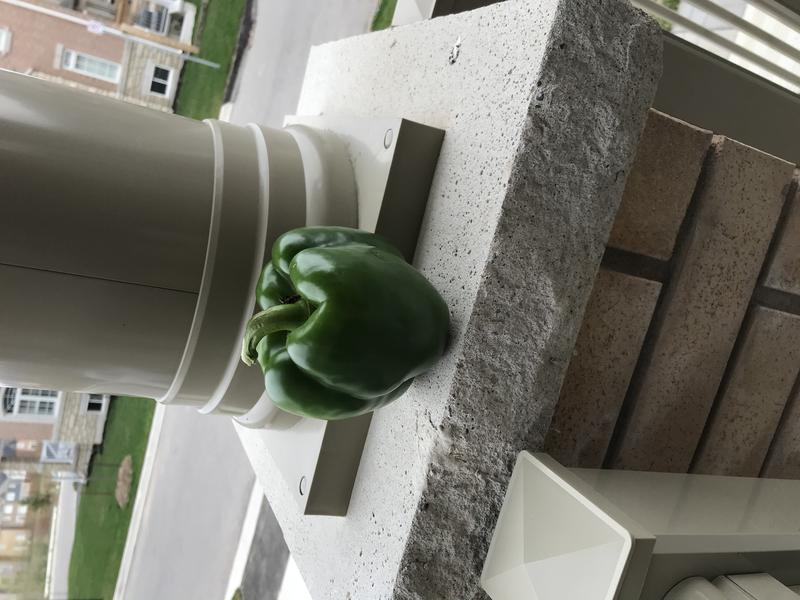green_pepper: (234, 222, 466, 431)
